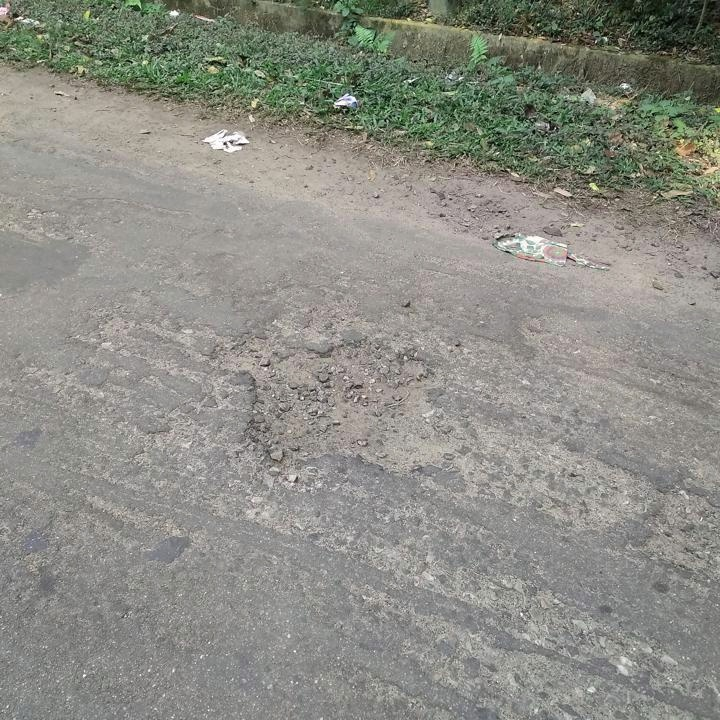pothole: (207, 331, 454, 474)
